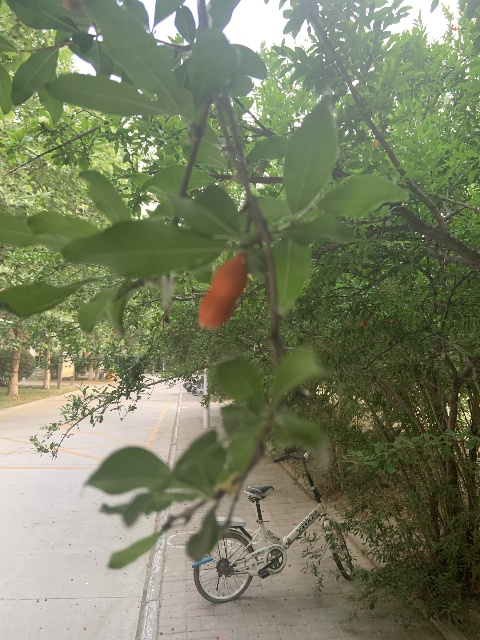bud: (198, 253, 247, 330)
